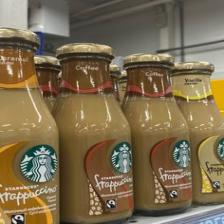brown: (0, 61, 215, 218)
